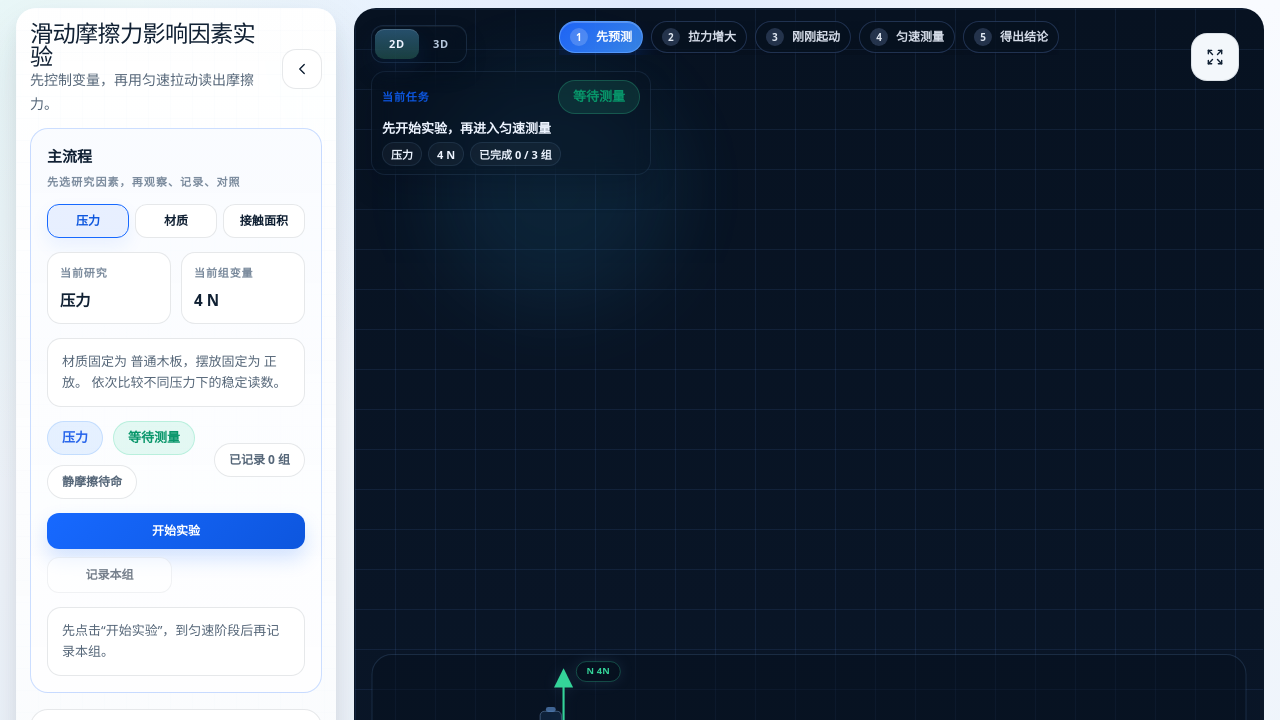
Scenario: BasicForceLab classroom entry › switches to the recommended baseline when changing study factor
This screenshot has width=1280, height=720.
Click the button with aria-label "接触材质" at point(176, 221), box [135, 204, 217, 238]
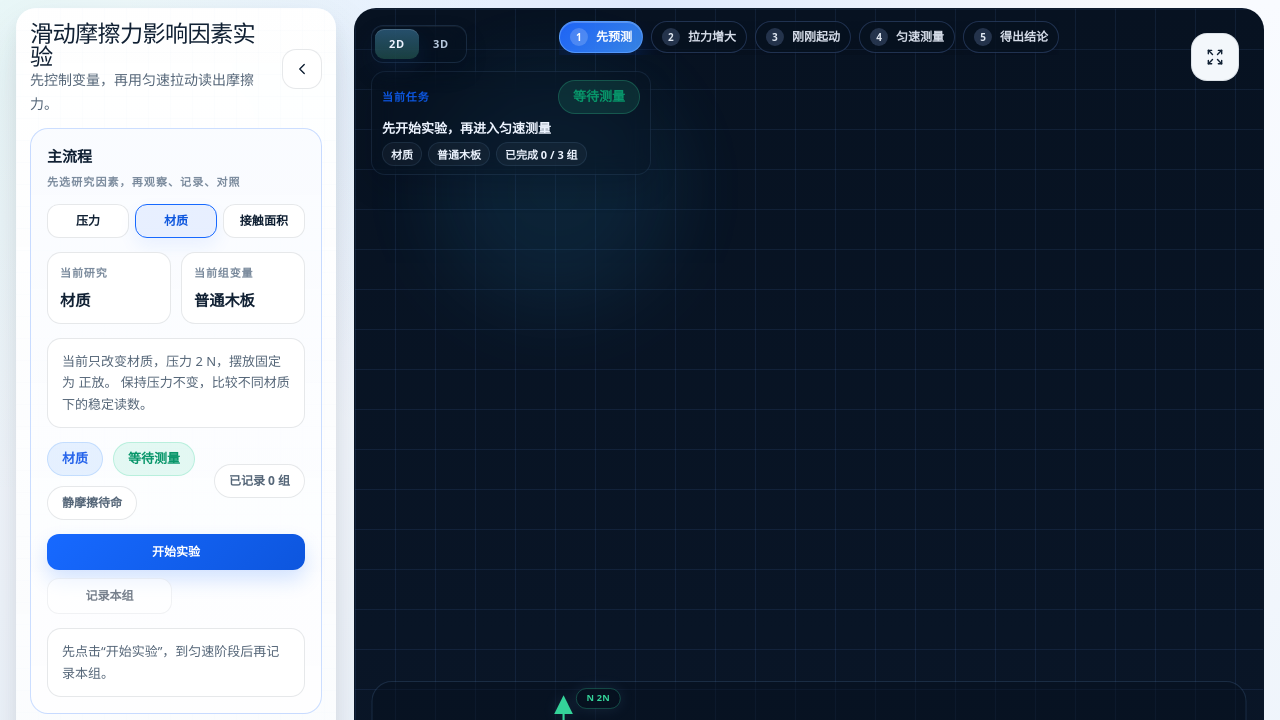
expect the text "普通木板" below "当前组变量" is shown: met, box [194, 290, 255, 310]
expect the text "当前只改变材质，压力 2 N，摆放固定为 正放。 保持压力不变，比较不同材质下的稳定读数。" is shown: met, box [47, 338, 305, 428]
